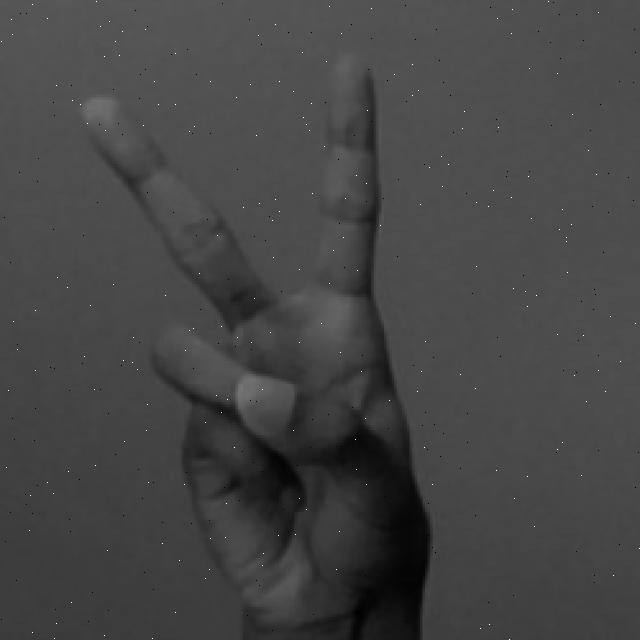V: (74, 48, 444, 640)
